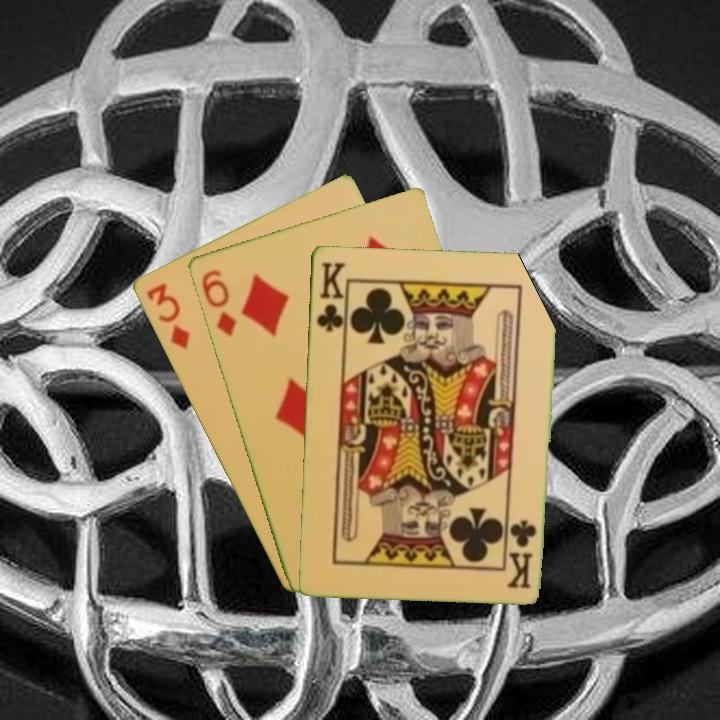3d: (142, 279, 193, 352)
6d: (197, 265, 239, 339)
Kc: (313, 258, 347, 340), (507, 516, 538, 591)
